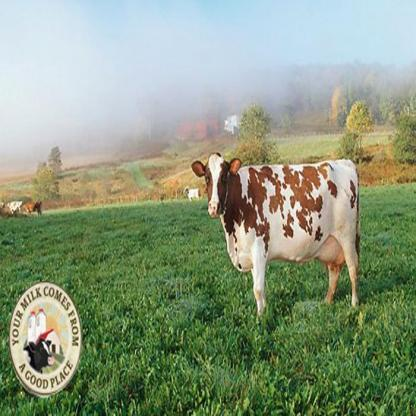cow: (191, 151, 361, 315), (6, 200, 24, 215), (183, 186, 200, 200), (22, 199, 38, 212)
